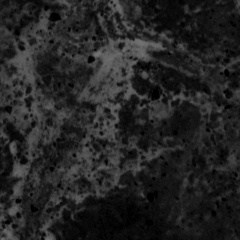Vegetation: (1, 29, 62, 154), (78, 94, 119, 188), (95, 36, 151, 95), (146, 90, 223, 128), (4, 159, 32, 238), (82, 1, 136, 33), (46, 166, 83, 210), (121, 142, 162, 173), (18, 9, 52, 38), (65, 37, 90, 73), (37, 214, 57, 240)
